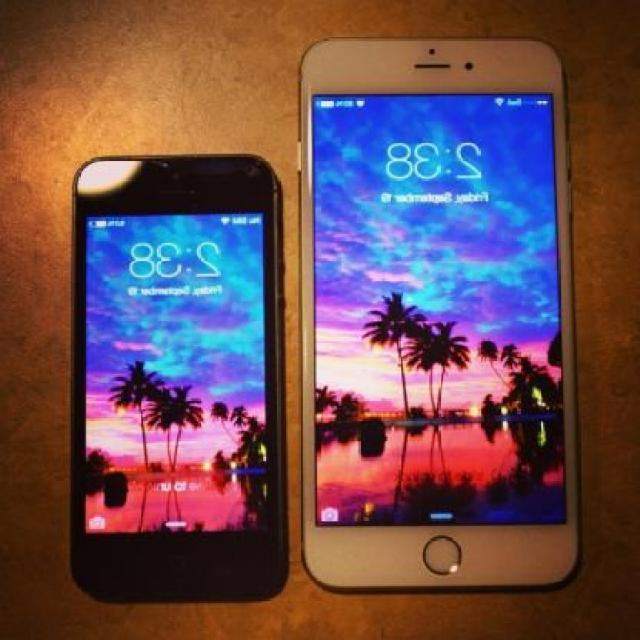phone: (294, 36, 583, 596), (63, 135, 291, 615)
